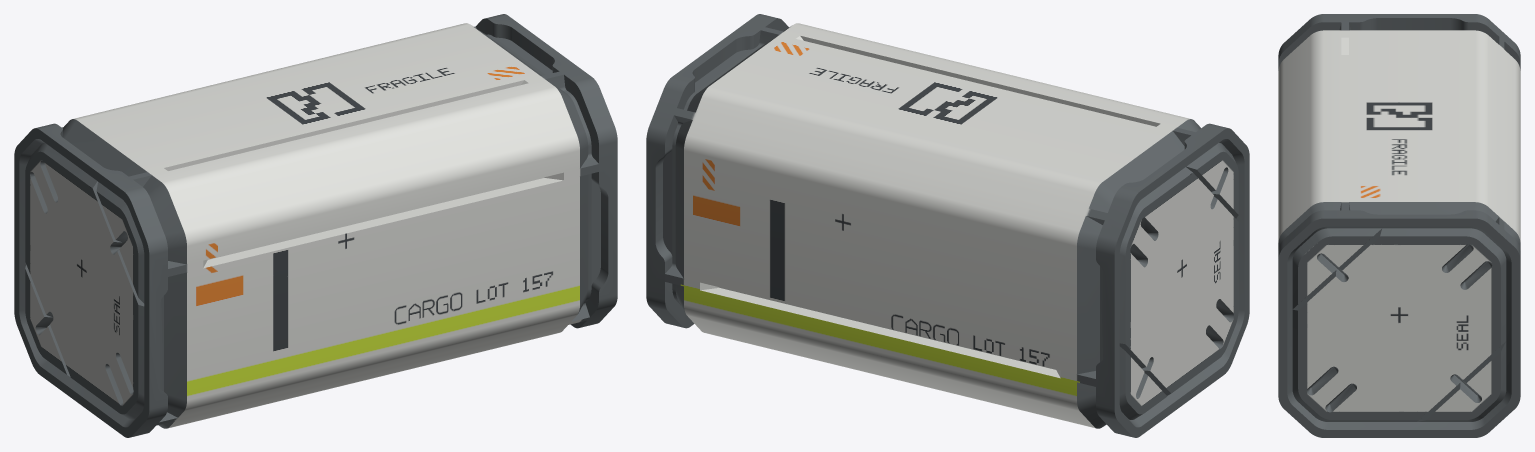
The model's file is long-box.glb.
The picture shows the model from 3 angles, left to right: view 1: azimuth 30°, elevation 25°; view 2: azimuth 150°, elevation 25°; view 3: azimuth 270°, elevation 25°; orthographic projection. The views are drawn at different scales.
Parts seen in each view (by area): view 1: long-box-high; view 2: long-box-high; view 3: long-box-high.
Part boxes in pixels (x1=…): long-box-high: x1=14, y1=14, x2=617, y2=437; long-box-high: x1=646, y1=14, x2=1249, y2=437; long-box-high: x1=1278, y1=14, x2=1520, y2=437.
Size of the model in its own units: 50 by 25 by 25.
1 material, 1 textured.
